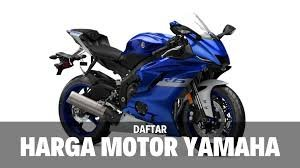motor: (49, 10, 249, 139)
